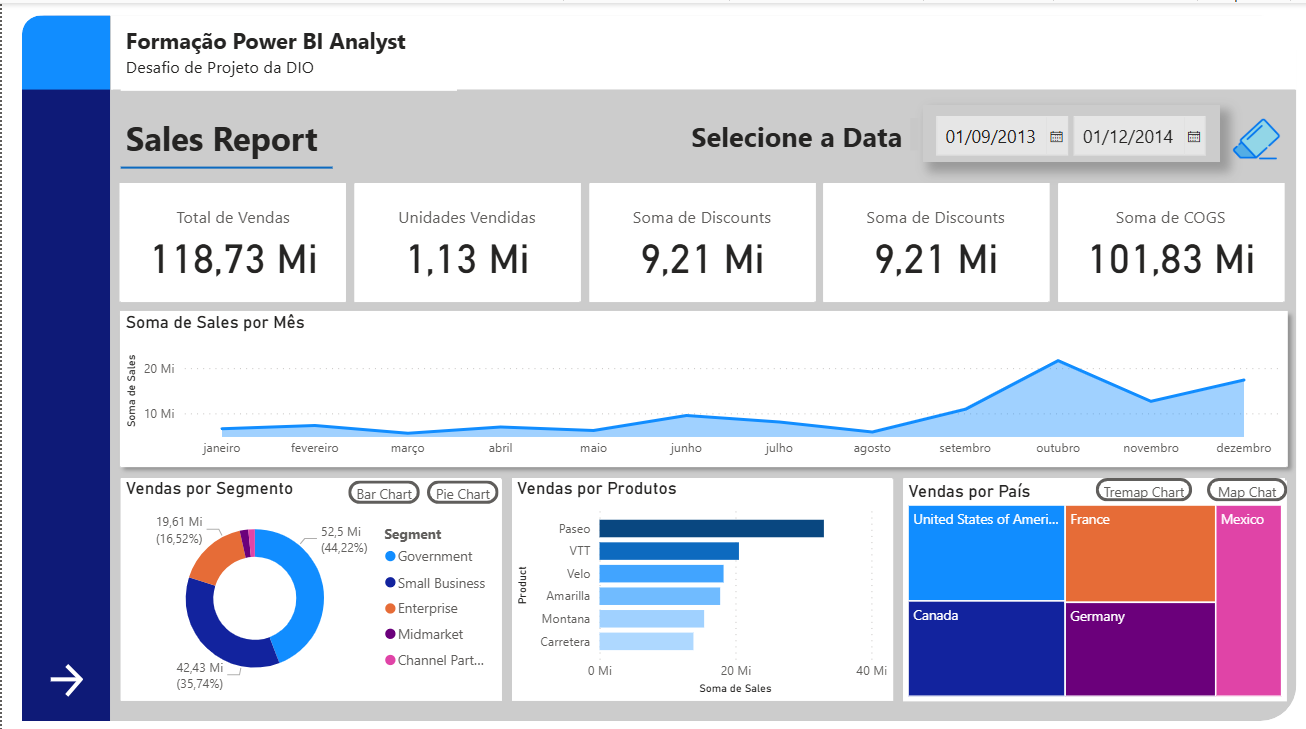

This screenshot's page, from the dashboard's own definition file:
{"tool":"powerbi","page":{"name":"Página 1","canvas":[1280,720],"ordinal":0},"visuals":[{"type":"shape","box":[20,12.5,1246.2,690],"z":0},{"type":"textbox","box":[115.7,105.7,221.4,55.7],"z":0,"group":"g4"},{"type":"shape","box":[115,176,221.4,115.7],"z":0,"group":"g1"},{"type":"donutChart","title":"Vendas por Segmento","fields":{"Y":["Sum(financials. Sales)"],"Category":["financials.Segment"]},"box":[116.7,465,371.7,216.7],"z":0,"group":"g3"},{"type":"slicer","fields":{"Values":["financials.Date"]},"box":[900.9,100.6,290,55],"z":1000},{"type":"shape","box":[115.7,147.1,207.1,28.6],"z":1000,"group":"g4"},{"type":"shape","box":[575,176,221.4,115.7],"z":1000,"group":"g1"},{"type":"treemap","title":"Vendas por País ","fields":{"Group":["financials.Country"],"Values":["Sum(financials. Sales)"]},"box":[881.4,466.4,375.2,216.2],"z":1000,"group":"g2"},{"type":"shape","box":[20,12.5,86.2,690],"z":2000},{"type":"shape","box":[803.6,176,221.4,115.7],"z":2000,"group":"g1"},{"type":"actionButton","title":"Botão - Map","box":[1178.5,464.3,78.6,22.9],"z":2000,"group":"g2"},{"type":"actionButton","title":"Botão - Bar","box":[339,467.1,70,22.9],"z":2000,"group":"g3"},{"type":"textbox","box":[662.5,107.2,238.3,43.3],"z":3000},{"type":"shape","box":[1032.8,176,221.4,115.7],"z":3000,"group":"g1"},{"type":"actionButton","title":"Botão - Tremap","box":[1070,464.3,94.3,22.9],"z":3000,"group":"g2"},{"type":"actionButton","title":"Botão - Pie","box":[416.1,467.1,70,22.9],"z":3000,"group":"g3"},{"type":"shape","box":[20,12.5,86.2,72.5],"z":4000},{"type":"shape","box":[345,176,221.4,115.7],"z":4000,"group":"g1"},{"type":"shape","box":[106.2,12.5,1160,72.5],"z":5000},{"type":"cardVisual","fields":{"Data":["Sum(financials.COGS)"]},"box":[1033.4,176.7,220,115],"z":5000,"group":"g1"},{"type":"image","title":"Imagem - Borracha","box":[1194.8,99,64.8,68.5],"z":6000},{"type":"cardVisual","fields":{"Data":["Sum(financials.Discounts)"]},"box":[803.4,176.7,220,115],"z":6000,"group":"g1"},{"type":"textbox","box":[115.7,17.1,328.6,68.6],"z":7000},{"type":"cardVisual","fields":{"Data":["Sum(financials.Discounts)"]},"box":[575,176.7,220,115],"z":7000,"group":"g1"},{"type":"group","id":"g1","title":"Cartões","box":[115,176,1139.2,115.7],"z":8000},{"type":"cardVisual","fields":{"Data":["Sum(financials.Units Sold)"]},"box":[345,176.7,220,115],"z":8000,"group":"g1"},{"type":"cardVisual","fields":{"Data":["Sum(financials. Sales)"]},"box":[116.7,176.7,220,115],"z":9000,"group":"g1"},{"type":"shape","box":[106.7,291.7,1160,170],"z":9000},{"type":"shape","box":[115.7,465.7,372.9,217.1],"z":10000},{"type":"shape","box":[498.6,465.7,372.9,217.1],"z":11000},{"type":"shape","box":[881.4,465.7,372.9,217.1],"z":12000},{"type":"shape","box":[881.4,465.7,314.3,217.1],"z":13000},{"type":"shape","box":[881.7,465,373.3,216.7],"z":14000},{"type":"areaChart","fields":{"Category":["financials.Date.Variation.Hierarquia de datas.Mês"],"Y":["Sum(financials. Sales)"]},"box":[116.7,301.7,1140,151.7],"z":15000},{"type":"clusteredBarChart","title":"Vendas por Produtos","fields":{"Y":["Sum(financials. Sales)"],"Category":["financials.Product"]},"box":[498.3,465,371.7,216.7],"z":16000},{"type":"group","id":"g2","title":"Vendas por País","box":[881.4,464.3,375.7,218.6],"z":17000},{"type":"group","id":"g3","title":"Vendas por Segmento","box":[116.7,465,371.7,216.7],"z":18000},{"type":"group","id":"g4","title":"Title Report","box":[115.7,105.7,221.4,70],"z":19000},{"type":"actionButton","box":[41.4,641.4,44.3,41.4],"z":20000}]}

Visuals, with their boxes on the page's 1280x720 design canvas (x1, y1, x2, y2). These are canvas units, not pixel positions in the 1306x729 screenshot, which may show the page scaled, cropped or inside an application window:
shape: select_region(20, 12, 1266, 702)
textbox: select_region(116, 106, 337, 161)
shape: select_region(115, 176, 336, 292)
"Vendas por Segmento" donutChart: select_region(117, 465, 488, 682)
slicer - financials.Date: select_region(901, 101, 1191, 156)
shape: select_region(116, 147, 323, 176)
shape: select_region(575, 176, 796, 292)
"Vendas por País " treemap: select_region(881, 466, 1257, 683)
shape: select_region(20, 12, 106, 702)
shape: select_region(804, 176, 1025, 292)
"Botão - Map" actionButton: select_region(1178, 464, 1257, 487)
"Botão - Bar" actionButton: select_region(339, 467, 409, 490)
textbox: select_region(662, 107, 901, 150)
shape: select_region(1033, 176, 1254, 292)
"Botão - Tremap" actionButton: select_region(1070, 464, 1164, 487)
"Botão - Pie" actionButton: select_region(416, 467, 486, 490)
shape: select_region(20, 12, 106, 85)
shape: select_region(345, 176, 566, 292)
shape: select_region(106, 12, 1266, 85)
cardVisual - Sum(financials.COGS): select_region(1033, 177, 1253, 292)
"Imagem - Borracha" image: select_region(1195, 99, 1260, 168)
cardVisual - Sum(financials.Discounts): select_region(803, 177, 1023, 292)
textbox: select_region(116, 17, 444, 86)
cardVisual - Sum(financials.Discounts): select_region(575, 177, 795, 292)
"Cartões" group: select_region(115, 176, 1254, 292)
cardVisual - Sum(financials.Units Sold): select_region(345, 177, 565, 292)
cardVisual - Sum(financials. Sales): select_region(117, 177, 337, 292)
shape: select_region(107, 292, 1267, 462)
shape: select_region(116, 466, 489, 683)
shape: select_region(499, 466, 872, 683)
shape: select_region(881, 466, 1254, 683)
shape: select_region(881, 466, 1196, 683)
shape: select_region(882, 465, 1255, 682)
areaChart - financials.Date.Variation.Hierarquia de datas.Mês x Sum(financials. Sales): select_region(117, 302, 1257, 453)
"Vendas por Produtos" clusteredBarChart: select_region(498, 465, 870, 682)
"Vendas por País" group: select_region(881, 464, 1257, 683)
"Vendas por Segmento" group: select_region(117, 465, 488, 682)
"Title Report" group: select_region(116, 106, 337, 176)
actionButton: select_region(41, 641, 86, 683)
